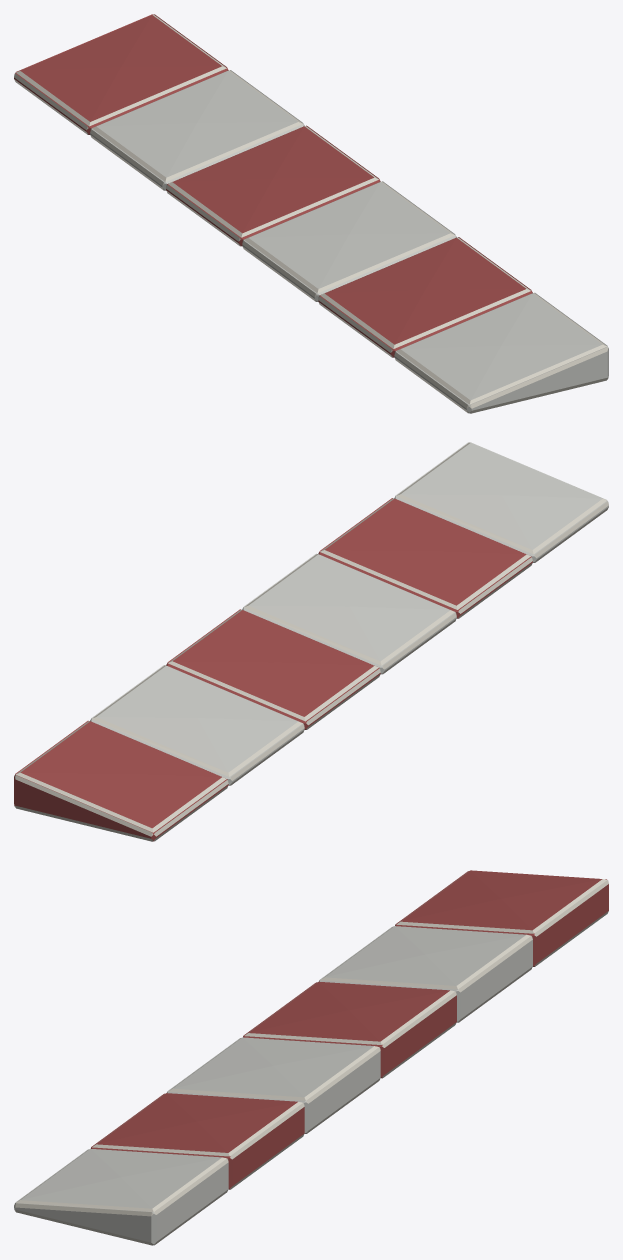
File: curb.glb
3 renders of one model, top to bottom at view 1: azimuth 30°, elevation 25°; view 2: azimuth 150°, elevation 25°; view 3: azimuth 330°, elevation 25°, orthographic.
Visible parts, largest first — view 1: Body.008; view 2: Body.008; view 3: Body.008.
Part boxes in pixels (bbox=[...]): Body.008: bbox=[14, 14, 608, 413]; Body.008: bbox=[14, 442, 608, 841]; Body.008: bbox=[14, 870, 608, 1245].
Size of the model in its own units: 0.54 by 0.1379 by 3.
